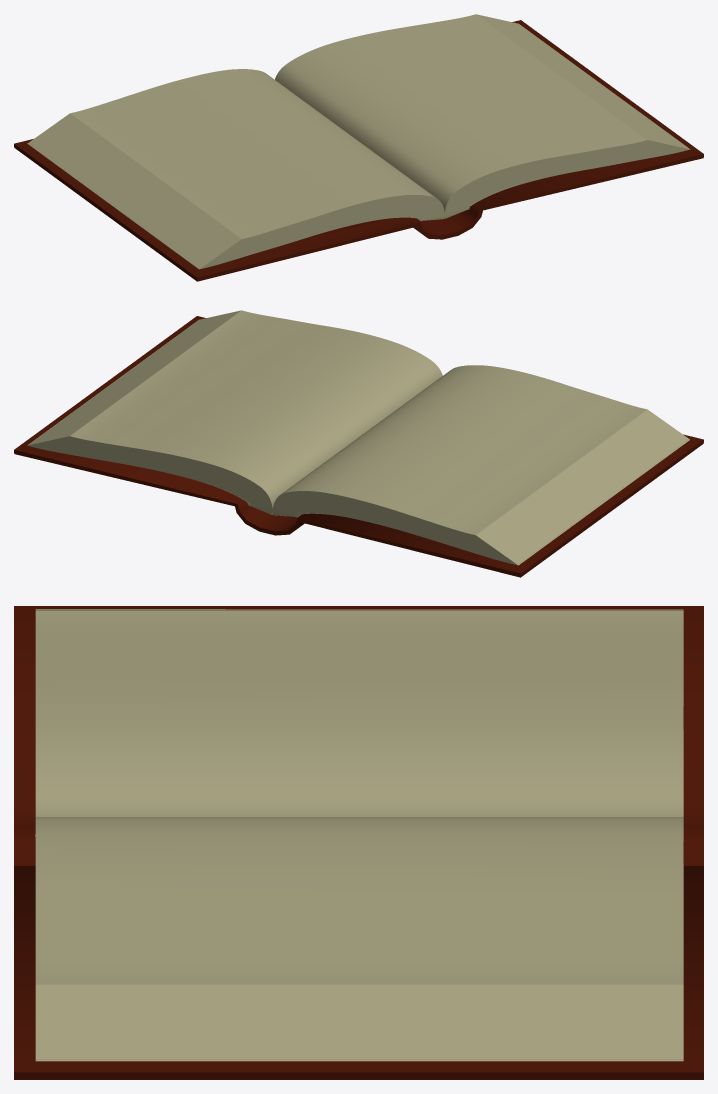
File: book.fbx
The picture shows the model from 3 angles, top to bottom: view 1: azimuth 30°, elevation 25°; view 2: azimuth 150°, elevation 25°; view 3: azimuth 270°, elevation 25°; orthographic projection. The views are drawn at different scales.
Parts seen in each view (by area): view 1: open_book_STY3BLO:Pages_01, Pages_01, open book; view 2: open_book_STY3BLO:Pages_01, Pages_01, open book; view 3: Pages_01, open_book_STY3BLO:Pages_01, open book.
Part boxes in pixels (x1,y1,x2,y2): open_book_STY3BLO:Pages_01: [27, 69, 444, 269]; Pages_01: [275, 14, 690, 218]; open book: [14, 20, 703, 281]; open_book_STY3BLO:Pages_01: [272, 365, 689, 565]; Pages_01: [27, 310, 442, 514]; open book: [14, 316, 703, 577]; Pages_01: [35, 817, 683, 1061]; open_book_STY3BLO:Pages_01: [35, 609, 683, 836]; open book: [14, 606, 703, 1079].
Bounding box in the file's own units: 63.95 × 6.11 × 40.
